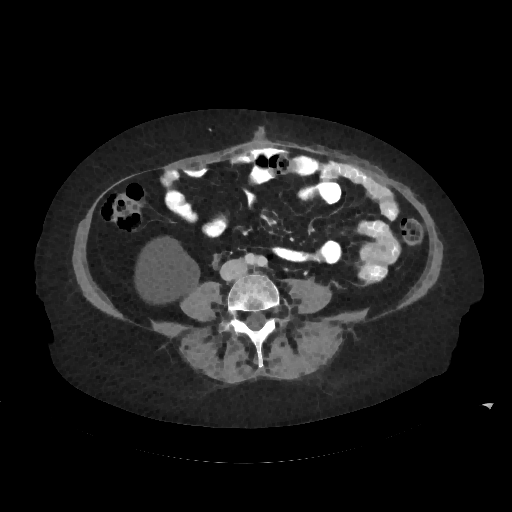Lesion: (133, 230, 202, 307)
